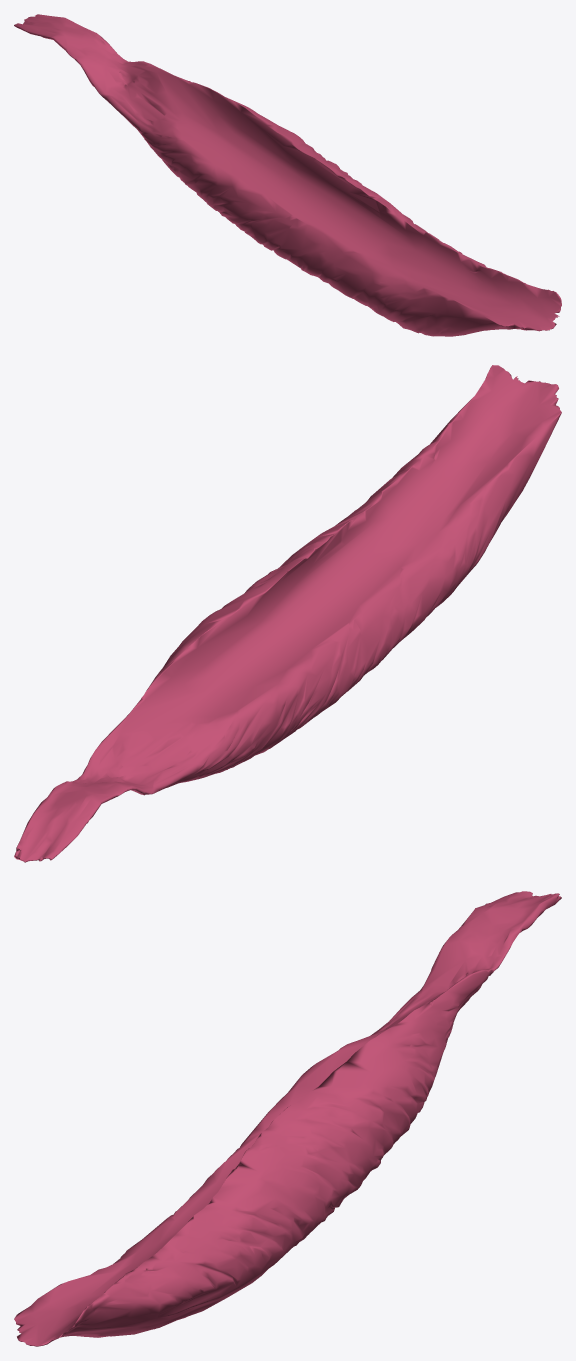
3 renders of one model, top to bottom at view 1: azimuth 30°, elevation 25°; view 2: azimuth 150°, elevation 25°; view 3: azimuth 330°, elevation 25°, orthographic. The views are drawn at different scales.
Visible parts, largest first — view 1: 左侧股中间肌; view 2: 左侧股中间肌; view 3: 左侧股中间肌.
Part boxes in pixels (x1=…): 左侧股中间肌: x1=14, y1=14, x2=561, y2=336; 左侧股中间肌: x1=14, y1=365, x2=561, y2=862; 左侧股中间肌: x1=14, y1=891, x2=561, y2=1346.
Size of the model in its own units: 0.0834 by 0.0704 by 0.6017.
